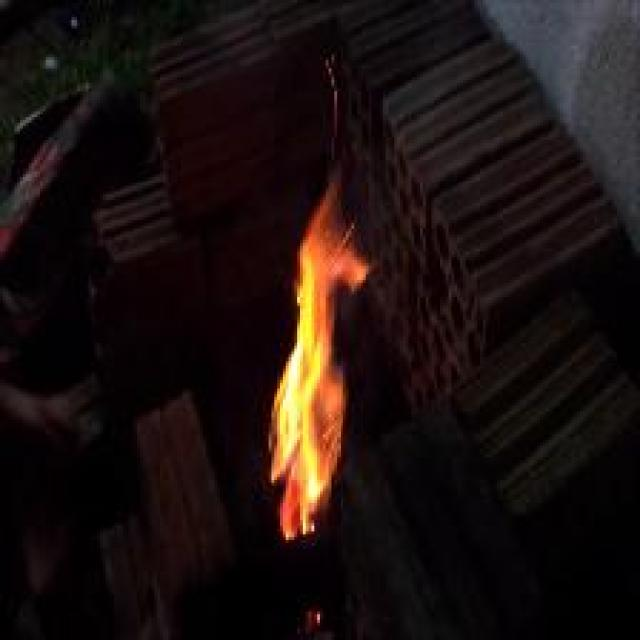fire: (269, 174, 376, 546)
